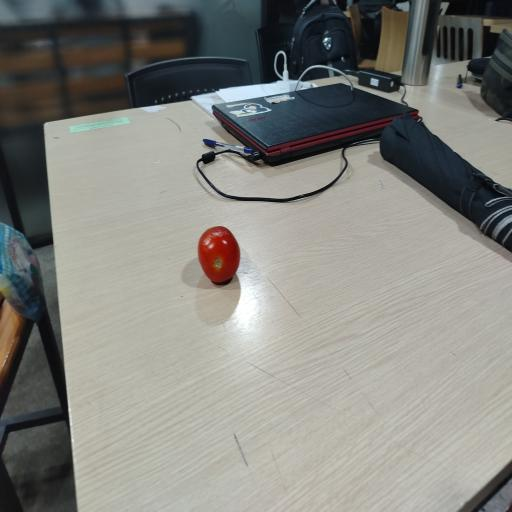spoiled: (198, 226, 240, 283)
